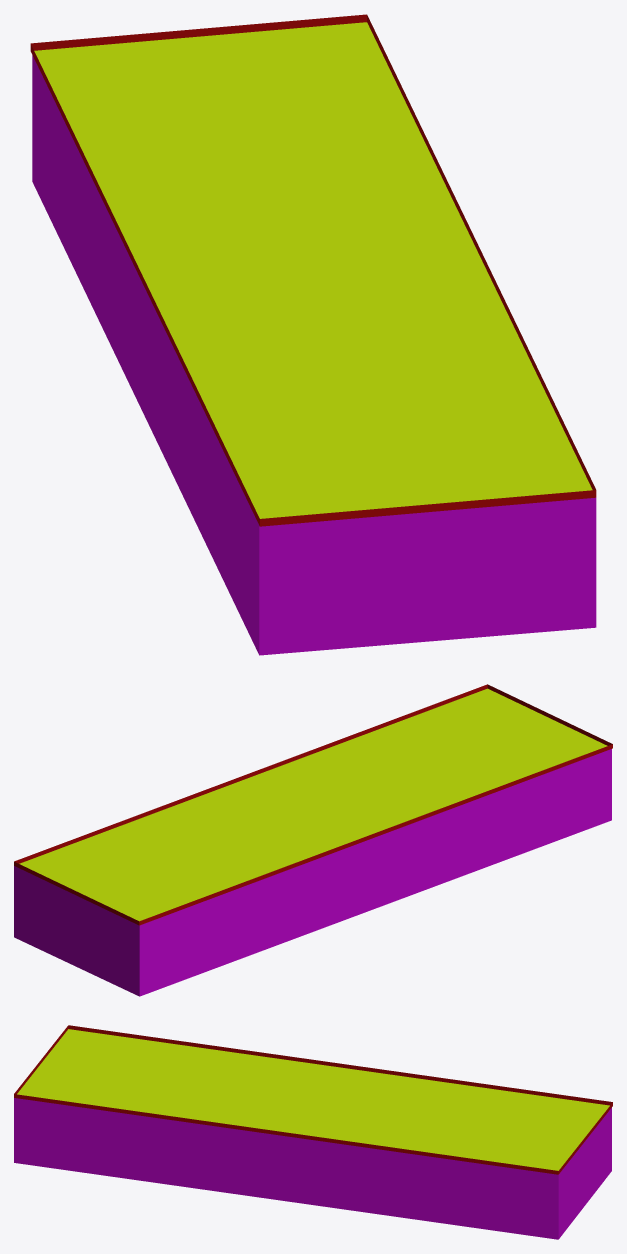
Rendered from bgj_108.glb.
3 views of the same model, one above another, from view 1: azimuth 30°, elevation 25°; view 2: azimuth 150°, elevation 25°; view 3: azimuth 270°, elevation 25° (orthographic). The views are drawn at different scales.
Parts seen in each view (by area): view 1: bgj_108; view 2: bgj_108; view 3: bgj_108.
Boxes of the visible parts, x1,y1,x2,y2 form: bgj_108: (30, 14, 596, 655); bgj_108: (14, 684, 612, 996); bgj_108: (14, 1025, 612, 1239).
Bounding box in the file's own units: 28.38 × 6.25 × 49.3.
